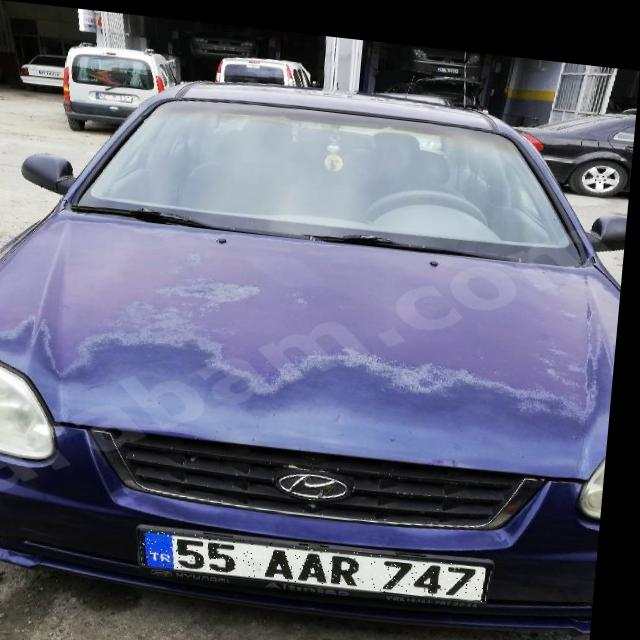license_plate: (147, 524, 495, 590)
